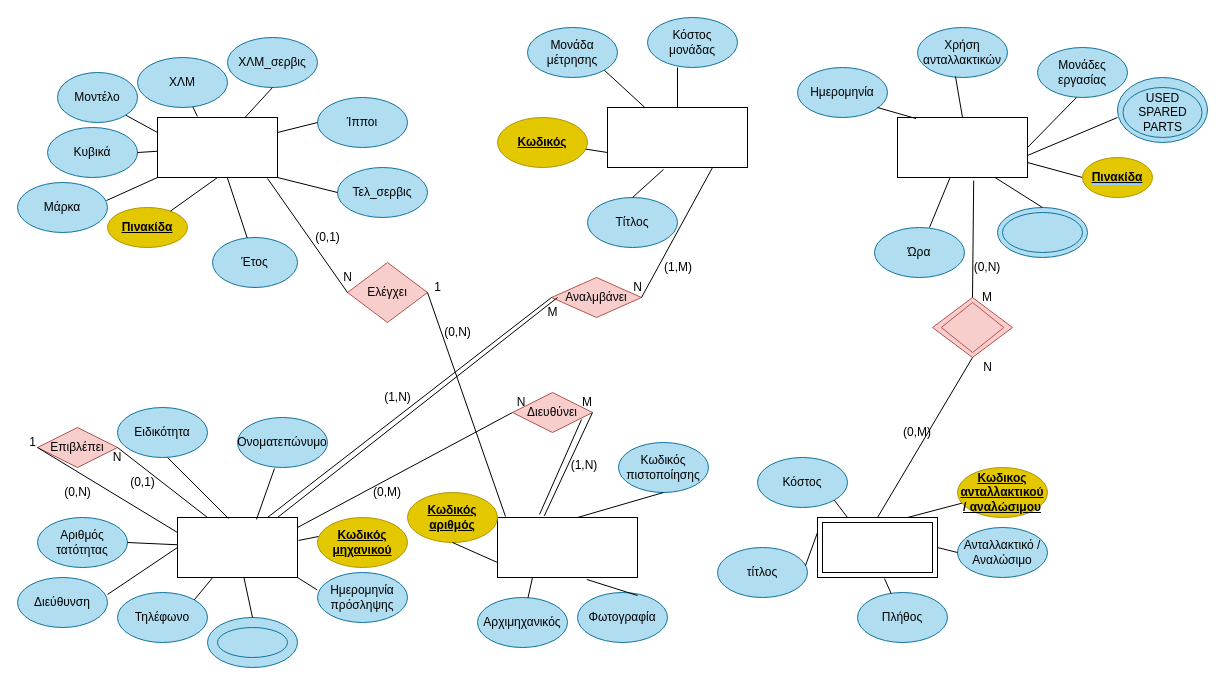
Image size: 1225x686. Some labels were removed from this diagram. The centre of each missing label's shape, as x and y in pixels:
"ENGINEER" goes at pixel 237 547.
"REPAIR_PLATFORMS" goes at pixel 567 547.
"REPAIR_TASK_TYPE" goes at pixel 677 137.
"REPAIRMENT" goes at pixel 962 147.
"SPARE PARTS" goes at pixel 877 547.
"VEHICLE" goes at pixel 217 147.
"Περιγραφή" goes at pixel 1042 232.
"Τύποι εργασίας" goes at pixel 252 642.
"Χρειάζεται" goes at pixel 972 327.
